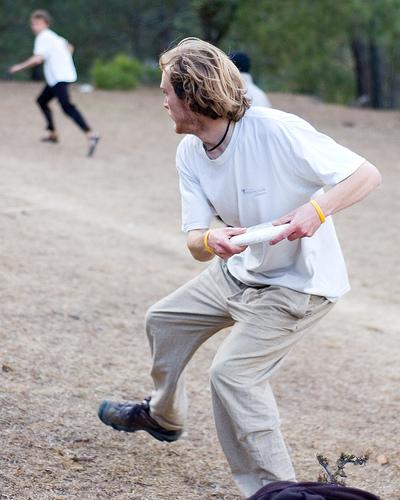person: (99, 38, 383, 500)
